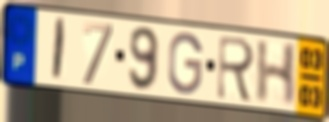7: (82, 19, 115, 86)
9: (128, 25, 161, 94)
G: (165, 30, 205, 97)
H: (254, 39, 299, 108)
I: (50, 16, 68, 84)
R: (215, 34, 257, 106)
